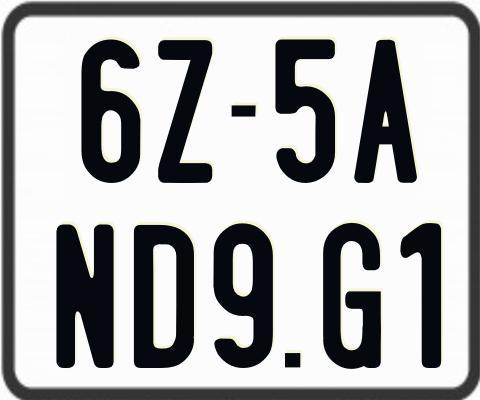1: (397, 221, 438, 368)
5: (274, 37, 339, 182)
6: (80, 38, 143, 182)
9: (210, 221, 272, 372)
A: (351, 39, 419, 186)
D: (133, 223, 198, 366)
G: (321, 221, 380, 373)
N: (55, 224, 117, 369)
Z: (156, 40, 214, 187)
